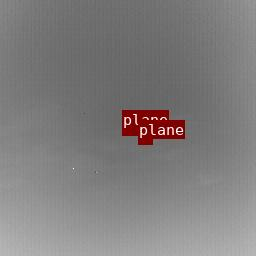plane: (122, 129, 137, 135), (138, 139, 152, 144)
